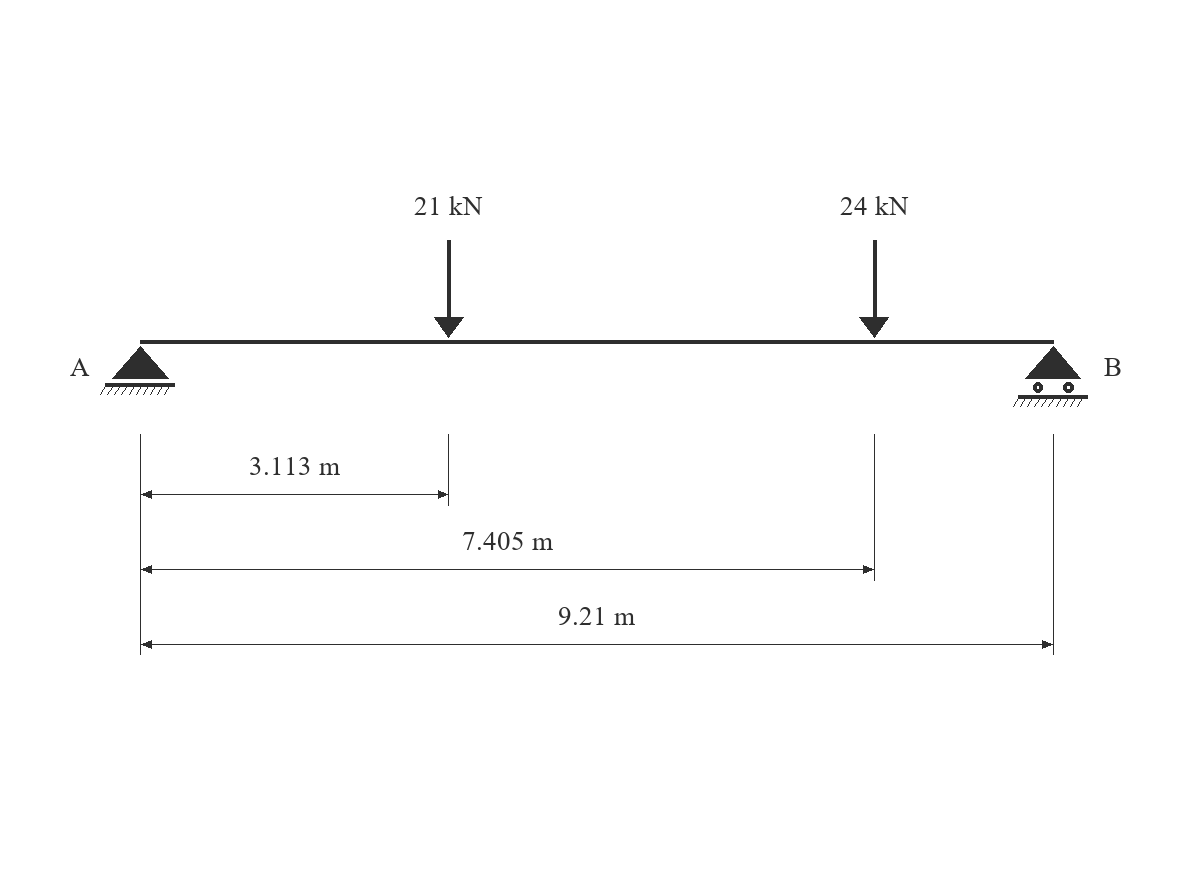pin_support: (100, 346, 175, 395)
point_load: (434, 240, 464, 338), (859, 240, 889, 338)
roller_support: (1013, 346, 1088, 407)
